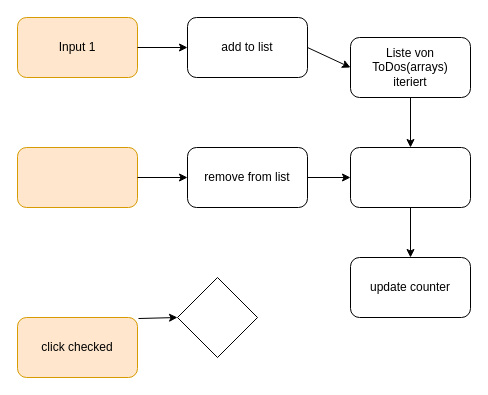
The diagram is 488 pixels wide and 395 high, and some of its shapes have lost their labels. Each missing label, with the centre of its shape:
click delete: point 77,177
DOM gezeichnet: point 410,177
if unchecked: point 217,317
